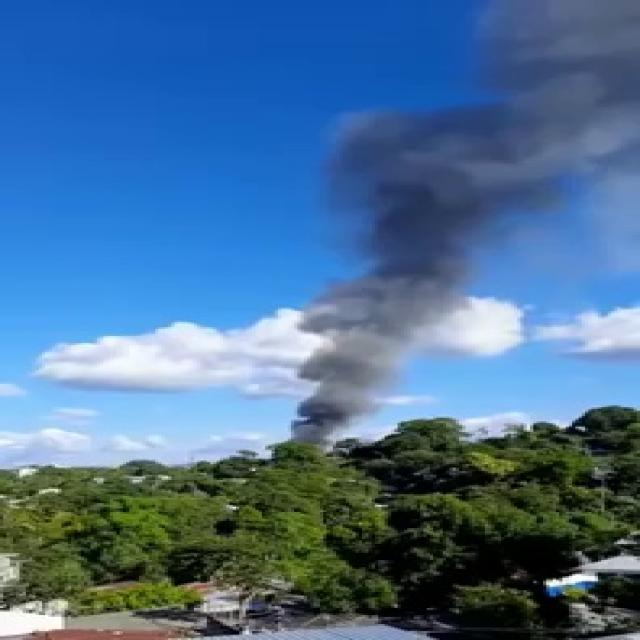Smoke: (263, 0, 617, 454)
